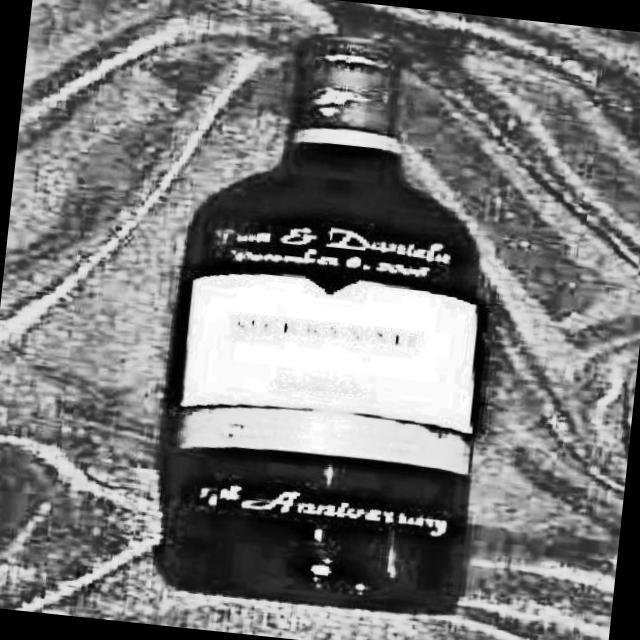Person: (143, 11, 531, 622)
